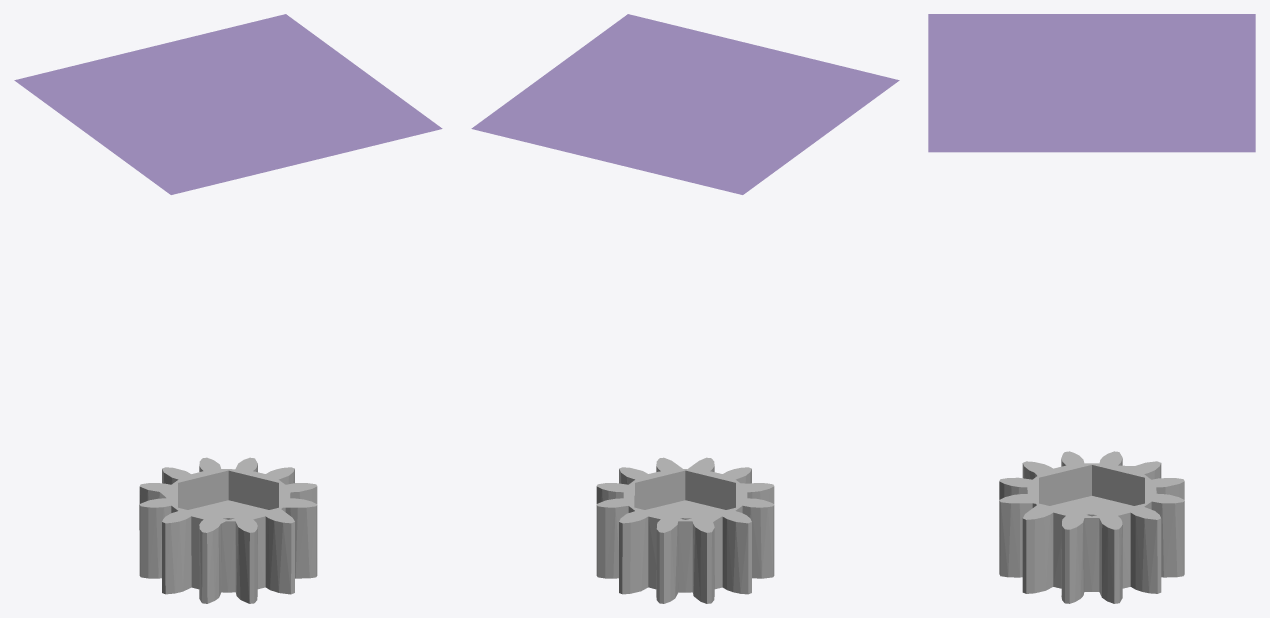
File: init.glb
The picture shows the model from 3 angles, left to right: view 1: azimuth 30°, elevation 25°; view 2: azimuth 150°, elevation 25°; view 3: azimuth 270°, elevation 25°; orthographic projection. The views are drawn at different scales.
Parts seen in each view (by area): view 1: world, object.obj; view 2: world, object.obj; view 3: world, object.obj.
Boxes of the visible parts, <box> form: world: <box>14,14,442,194</box>; object.obj: <box>139,457,317,603</box>; world: <box>471,14,899,194</box>; object.obj: <box>596,457,774,603</box>; world: <box>928,14,1255,152</box>; object.obj: <box>999,451,1184,603</box>.
Bounding box in the file's own units: 0.6158 × 0.9995 × 0.6158.
